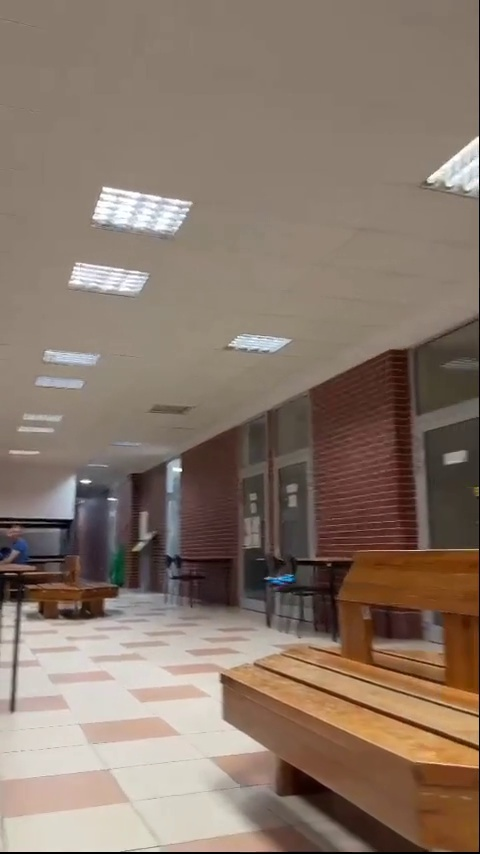drone: (263, 573, 296, 590)
no vest: (0, 524, 34, 585)
